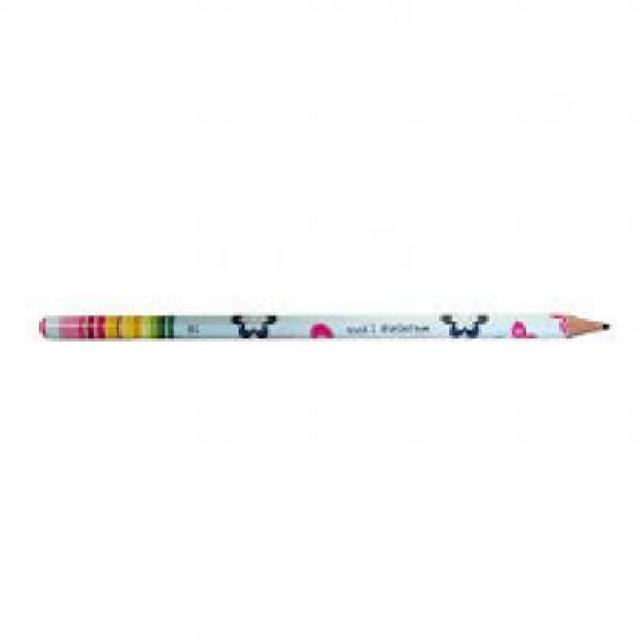Pencil: (532, 287, 623, 361)
